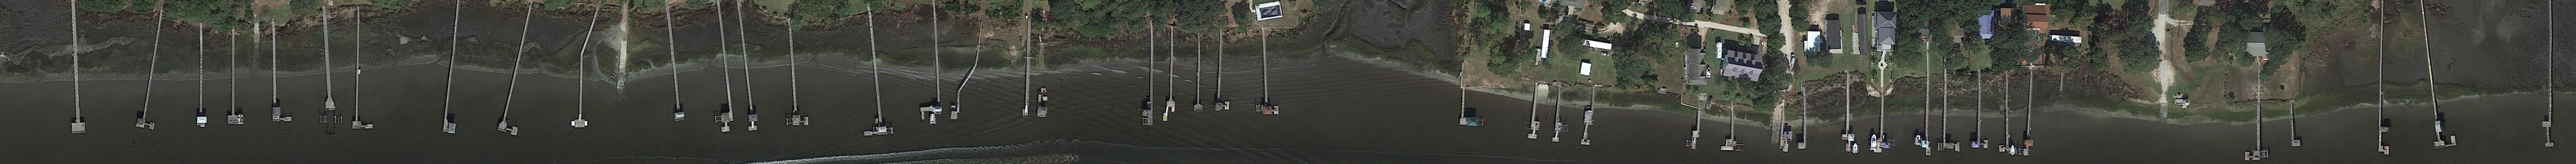harbor: (2415, 7, 2456, 149), (498, 13, 542, 136), (853, 13, 887, 136), (136, 23, 172, 130), (705, 11, 736, 133), (442, 11, 470, 133), (734, 10, 759, 131), (780, 26, 810, 126), (917, 11, 941, 120), (353, 15, 376, 130), (67, 5, 85, 134), (2542, 5, 2558, 146), (664, 16, 685, 121), (2377, 20, 2392, 156), (271, 31, 292, 121), (1937, 74, 1960, 151), (2246, 85, 2269, 161), (1260, 36, 1280, 115), (1970, 75, 1990, 149), (1873, 79, 1893, 153), (320, 18, 335, 110), (2022, 80, 2039, 156), (1163, 38, 1178, 121), (572, 54, 588, 128), (1142, 39, 1155, 125), (1214, 44, 1231, 112), (228, 33, 240, 125), (1580, 90, 1598, 146), (1842, 85, 1856, 153), (1526, 87, 1544, 139), (1920, 74, 1932, 156), (197, 33, 207, 128), (1459, 90, 1482, 126), (1551, 89, 1566, 143), (1720, 110, 1738, 151), (1999, 80, 2009, 153), (1194, 43, 1204, 112), (1779, 112, 1794, 151), (2289, 105, 2302, 148), (1023, 39, 1030, 115), (1797, 102, 1807, 149), (1690, 112, 1702, 149), (950, 90, 963, 120), (959, 67, 976, 89), (974, 44, 981, 66)
ship: (1914, 134, 1922, 148), (1871, 134, 1876, 151), (930, 113, 936, 125), (2011, 144, 2016, 156), (1853, 143, 1858, 154), (1707, 67, 1710, 79)
